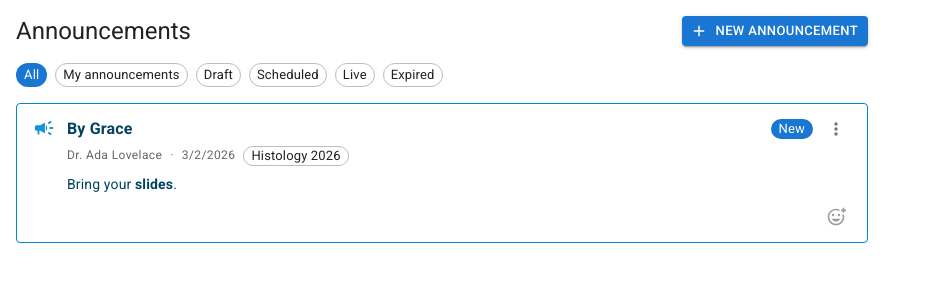
Test case: AnnouncementsPage › admins can edit any post straight from the stream (no author scope needed)
Click the button named "Actions for By Grace": x=836, y=129 [821,114,851,144]
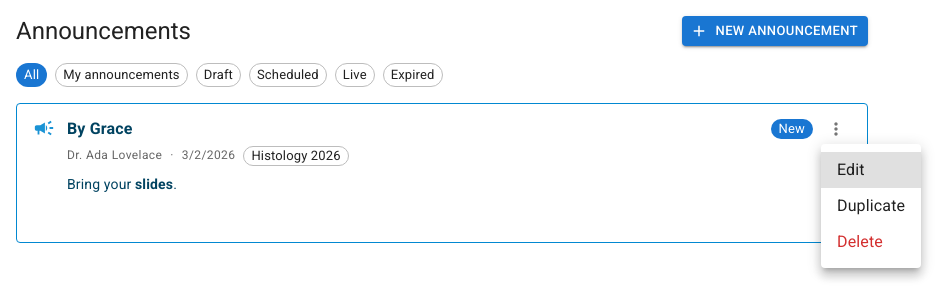
Expected: the menu item "Edit" is shown, [821,152,921,188]
